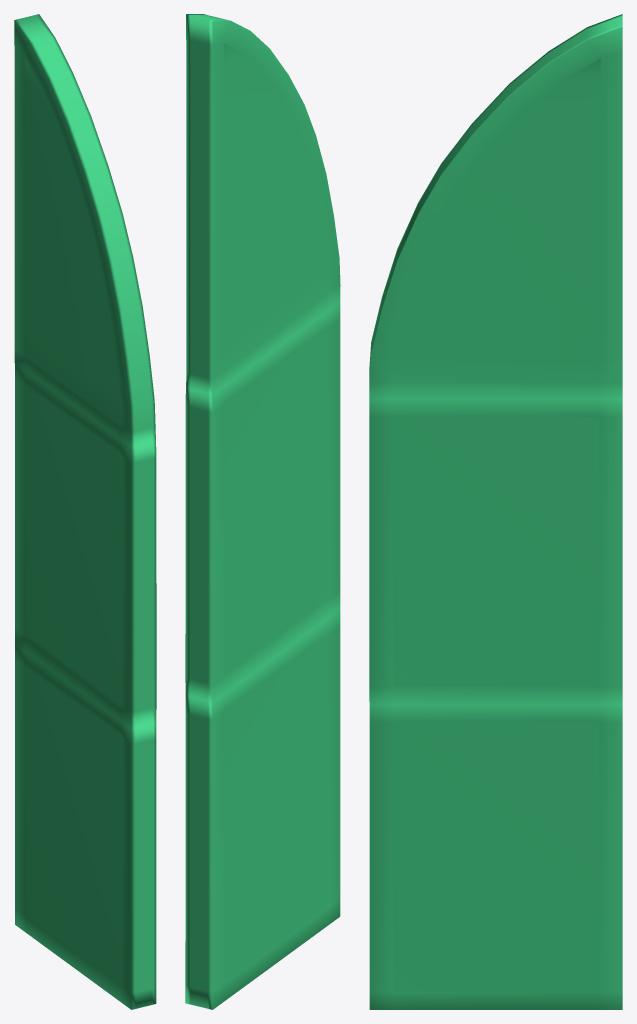
File: Door_04_R_Lod0.fbx
3 renders of one model, left to right at view 1: azimuth 30°, elevation 25°; view 2: azimuth 150°, elevation 25°; view 3: azimuth 270°, elevation 25°, orthographic. The views are drawn at different scales.
Visible parts, largest first — view 1: Door_04_R_Lod0; view 2: Door_04_R_Lod0; view 3: Door_04_R_Lod0.
Boxes of the visible parts, x1,y1,x2,y2 form: Door_04_R_Lod0: (14, 14, 156, 1009); Door_04_R_Lod0: (185, 14, 340, 1009); Door_04_R_Lod0: (369, 14, 622, 1009).
Bounding box in the file's own units: 28.45 × 965 × 226.
